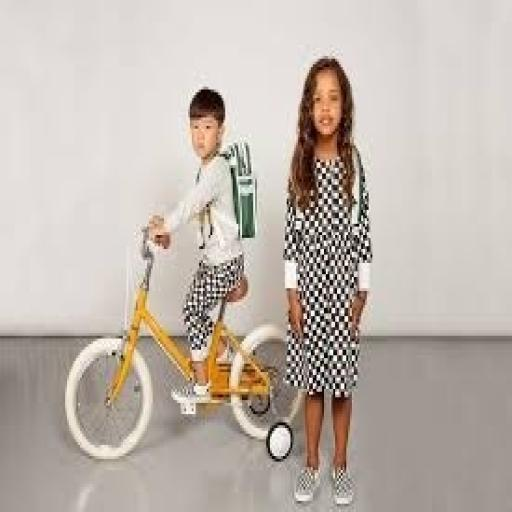cycling: (281, 53, 374, 509), (145, 84, 255, 408)
